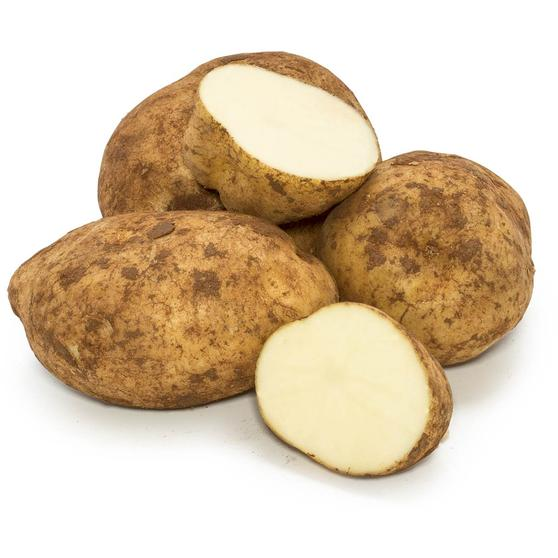potato: (11, 208, 336, 412)
